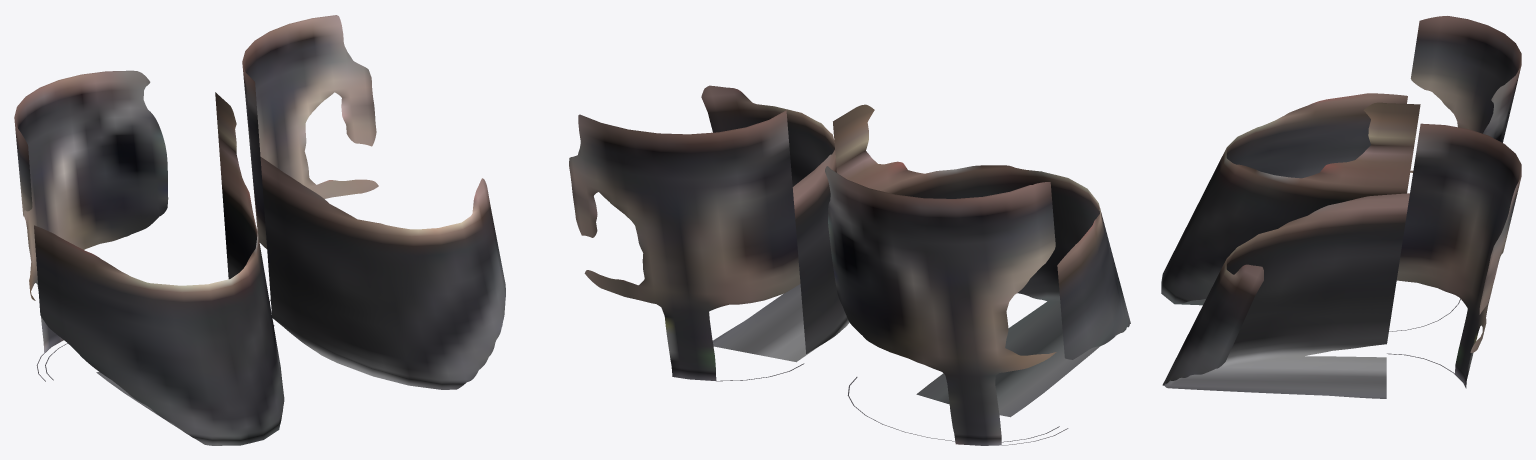
The model's file is prod-ae-noir-slingbacks.glb.
3 renders of one model, left to right at view 1: azimuth 30°, elevation 25°; view 2: azimuth 150°, elevation 25°; view 3: azimuth 270°, elevation 25°, orthographic. The views are drawn at different scales.
Parts seen in each view (by area): view 1: prod-ae-noir-slingbacks; view 2: prod-ae-noir-slingbacks; view 3: prod-ae-noir-slingbacks.
Part boxes in pixels (box(x1,y1,x2,y2)): prod-ae-noir-slingbacks: box(14, 15, 505, 445); prod-ae-noir-slingbacks: box(569, 85, 1130, 445); prod-ae-noir-slingbacks: box(1161, 16, 1521, 398).
Size of the model in its own units: 0.1694 by 0.0911 by 0.1271.
1 material, 1 textured.
